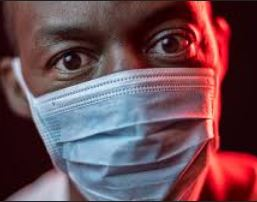with_facemask: (48, 89, 208, 184)
